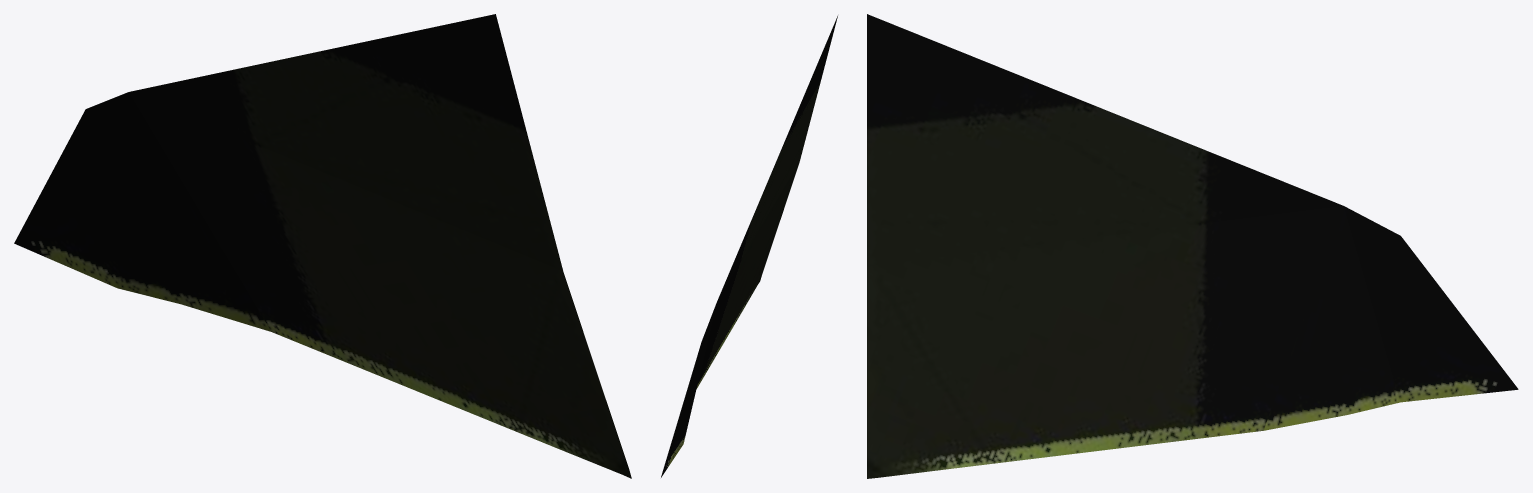
3 views of the same model, side by side, from view 1: azimuth 30°, elevation 25°; view 2: azimuth 150°, elevation 25°; view 3: azimuth 270°, elevation 25° (orthographic). The views are drawn at different scales.
Bounding box in the file's own units: 1.86 × 3.99 × 5.74.
1 material, 1 textured.
